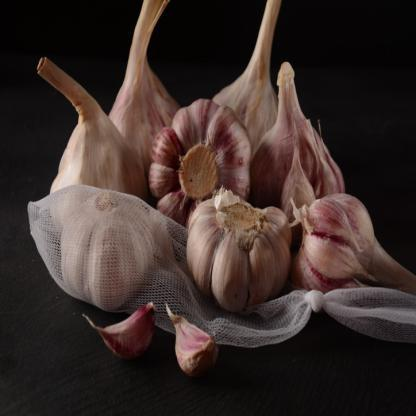garlic: (292, 175, 416, 293), (43, 85, 147, 207), (194, 185, 296, 298), (152, 105, 254, 216), (257, 92, 326, 209), (83, 301, 157, 367), (162, 312, 222, 374)
